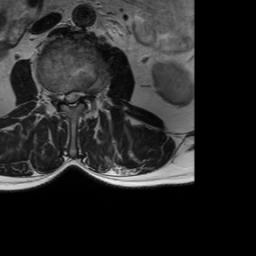CCS_severe_stenosis: (69, 87, 75, 109)
LFS_severe_stenosis: (82, 87, 88, 103)
LLS_stenosis: (75, 87, 81, 103)
RFS_stenosis: (54, 87, 63, 106)
RLS_stenosis: (63, 87, 70, 106)
